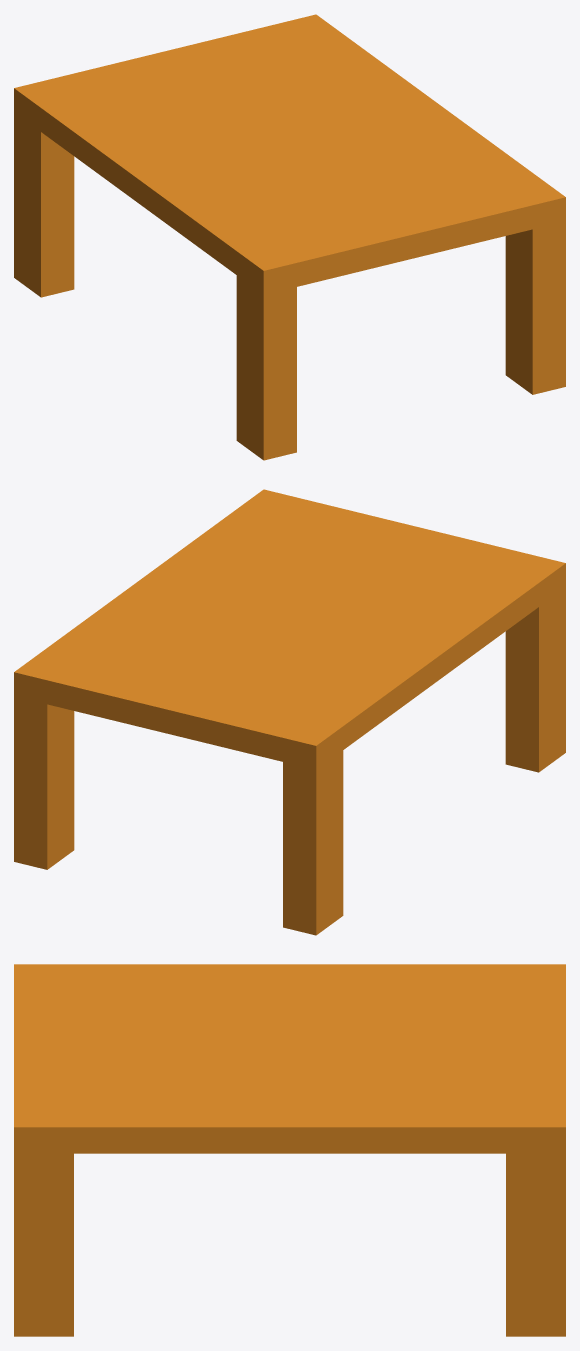
Rendered from Unit567TableV1.fbx.
The picture shows the model from 3 angles, top to bottom: view 1: azimuth 30°, elevation 25°; view 2: azimuth 150°, elevation 25°; view 3: azimuth 270°, elevation 25°; orthographic projection. The views are drawn at different scales.
Visible parts, largest first — view 1: Cube; view 2: Cube; view 3: Cube.
Boxes of the visible parts, x1,y1,x2,y2 form: Cube: (14, 14, 565, 460); Cube: (14, 489, 565, 935); Cube: (14, 964, 565, 1336).
Size of the model in its own units: 605 by 363 by 866.
